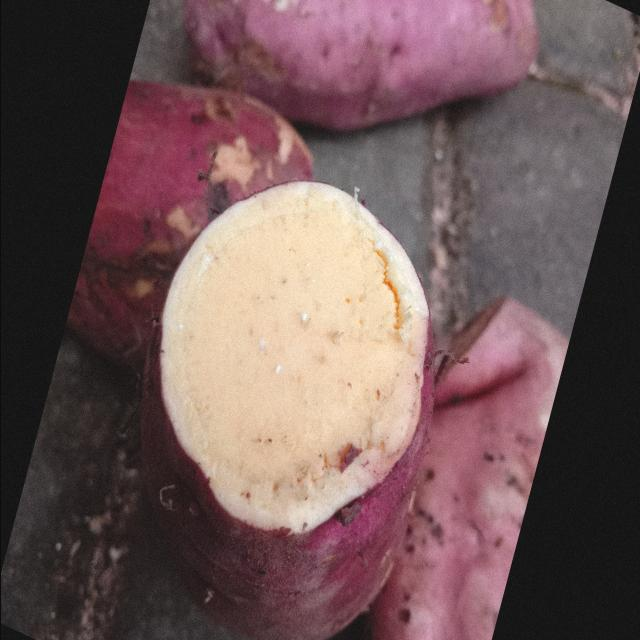Healthy Sweet Potato: (160, 182, 428, 533)
